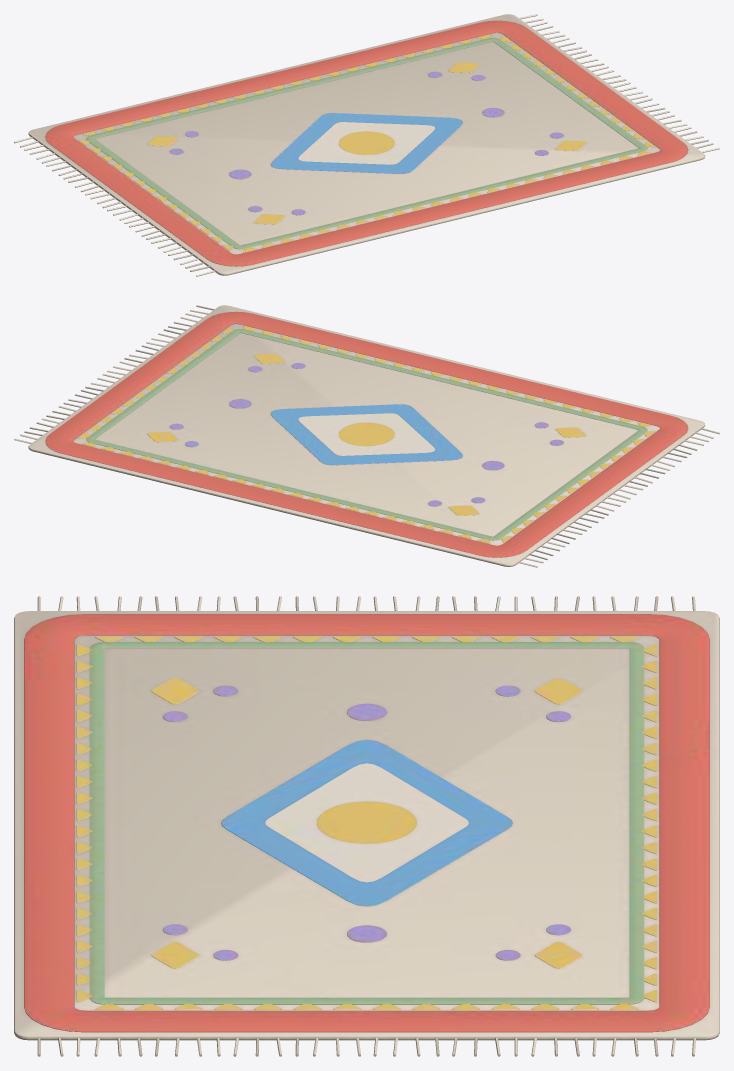
Rendered from rug.glb.
The picture shows the model from 3 angles, top to bottom: view 1: azimuth 30°, elevation 25°; view 2: azimuth 150°, elevation 25°; view 3: azimuth 270°, elevation 25°; orthographic projection. The views are drawn at different scales.
Visible parts, largest first — view 1: rug_body; view 2: rug_body; view 3: rug_body.
Part boxes in pixels (x1,y1,x2,y2): rug_body: [14, 14, 719, 276]; rug_body: [14, 305, 719, 567]; rug_body: [14, 596, 719, 1056].
Bounding box in the file's own units: 2.15 × 0.0119 × 1.4.
1 material, 1 textured.
